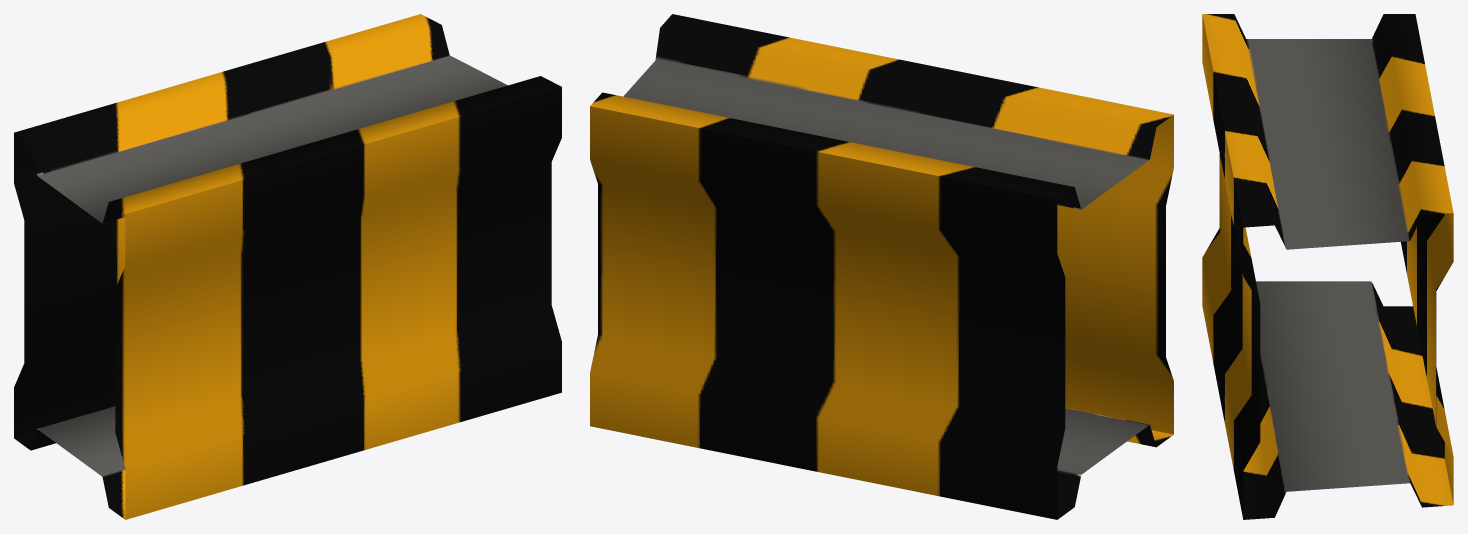
Rendered from segment_whole.FBX.
3 views of the same model, side by side, from view 1: azimuth 30°, elevation 25°; view 2: azimuth 150°, elevation 25°; view 3: azimuth 270°, elevation 25° (orthographic). The views are drawn at different scales.
Parts seen in each view (by area): view 1: Box002; view 2: Box002; view 3: Box002.
Boxes of the visible parts, x1=… form: Box002: x1=14, y1=14, x2=561, y2=519; Box002: x1=590, y1=14, x2=1173, y2=519; Box002: x1=1202, y1=14, x2=1453, y2=519.
Size of the model in its own units: 47.13 by 30 by 23.36.
Materials: 1 (1 with a texture image).
